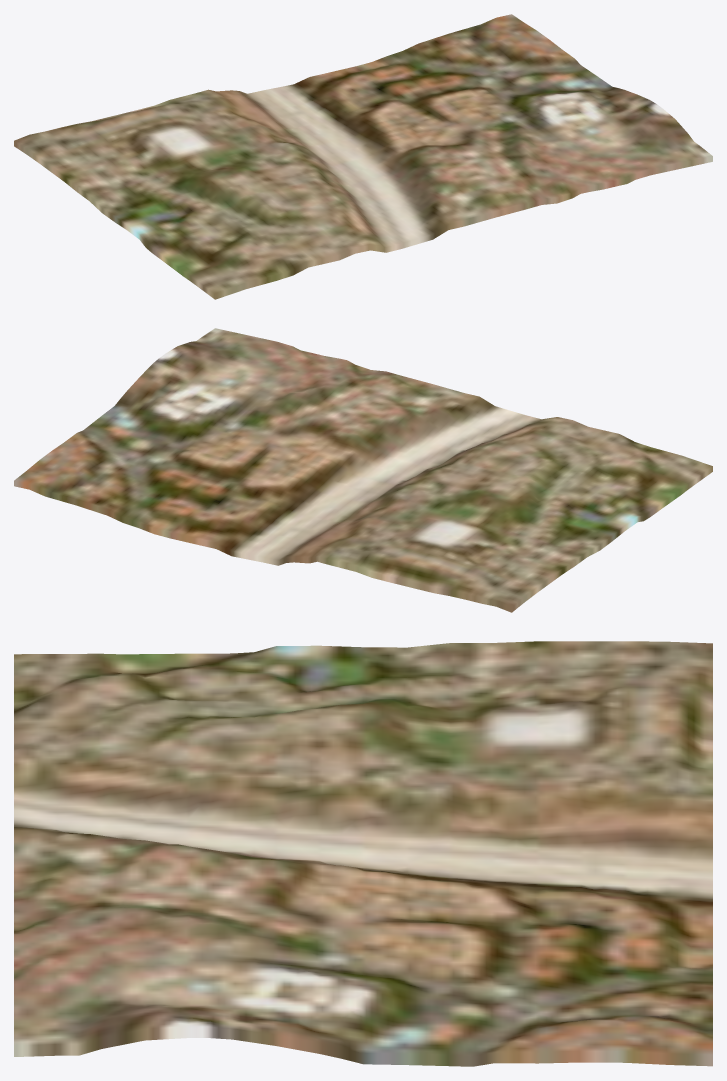
The model's file is terrain_r5_c7_lod2.glb.
3 renders of one model, top to bottom at view 1: azimuth 30°, elevation 25°; view 2: azimuth 150°, elevation 25°; view 3: azimuth 270°, elevation 25°, orthographic. The views are drawn at different scales.
Parts seen in each view (by area): view 1: terrain_r5_c7_lod2; view 2: terrain_r5_c7_lod2; view 3: terrain_r5_c7_lod2.
Boxes of the visible parts, x1=… form: terrain_r5_c7_lod2: x1=14, y1=14, x2=712, y2=299; terrain_r5_c7_lod2: x1=14, y1=328, x2=712, y2=612; terrain_r5_c7_lod2: x1=14, y1=641, x2=712, y2=1066.
Bounding box in the file's own units: 1125 × 83.71 × 787.
1 material, 1 textured.
